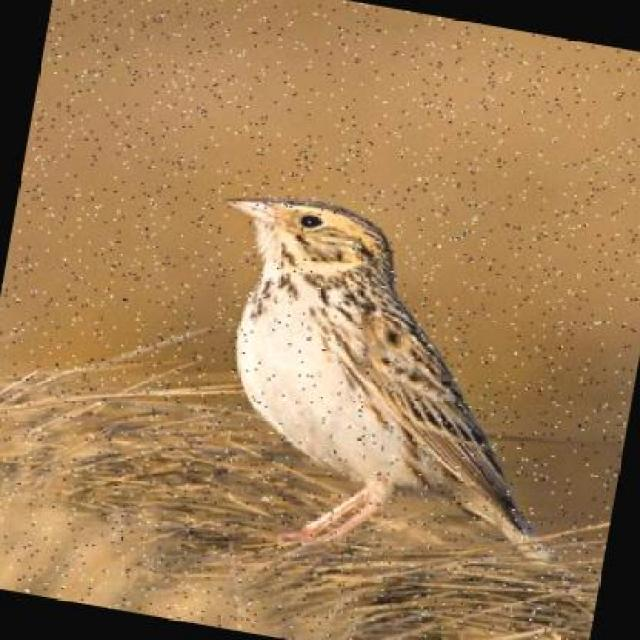Bird: (217, 183, 545, 570)
